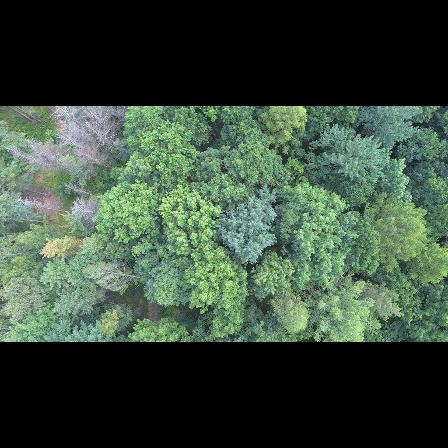Dead: (60, 119, 103, 152), (10, 148, 61, 175), (39, 146, 90, 173), (73, 200, 111, 233), (51, 107, 94, 133), (88, 125, 125, 152), (77, 147, 111, 172), (64, 183, 107, 201)
